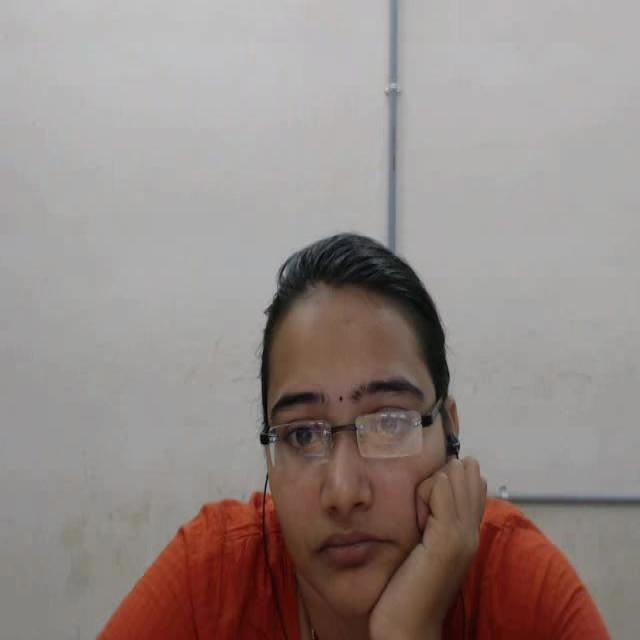Bored: (222, 215, 504, 640)
